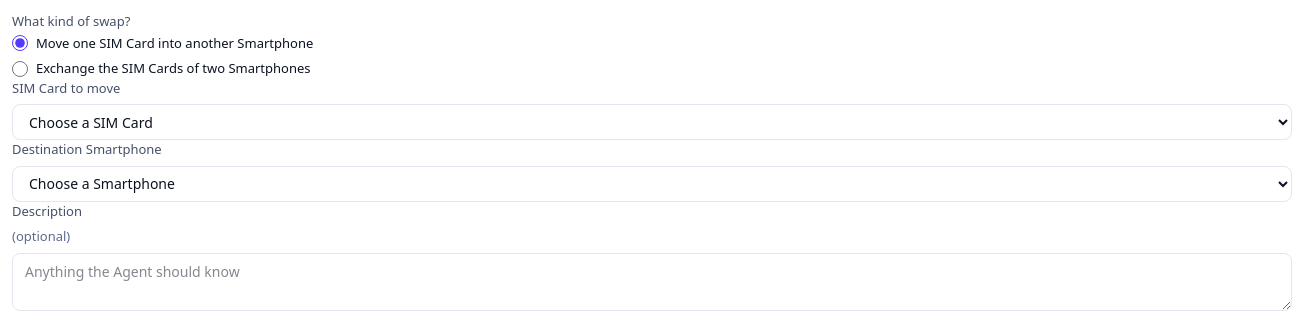
Test: SimSwapRequestDetails › disables the second picker until a first SIM Card is chosen
Click the radio button labelled "Exchange the SIM Cards of two Smartphones".
click(20, 69)  # box 12,61 -> 28,77
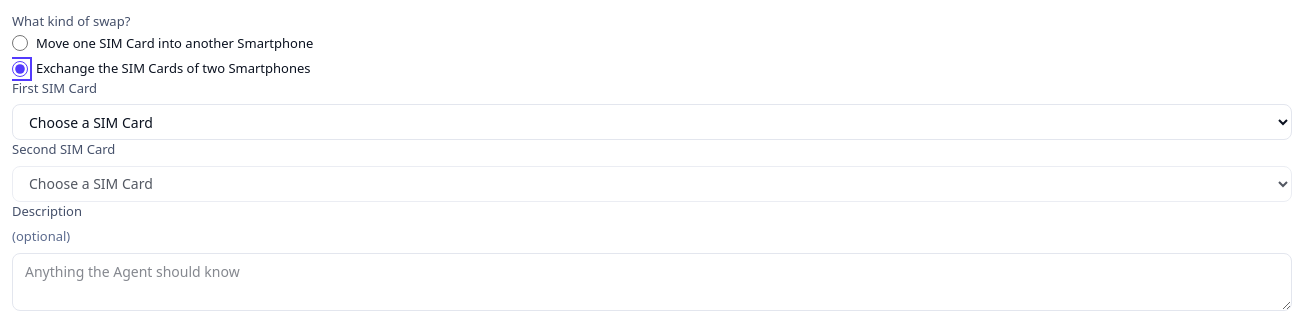
Now the dropdown labelled "Second SIM Card" is disabled, box 12,166 -> 1292,202
